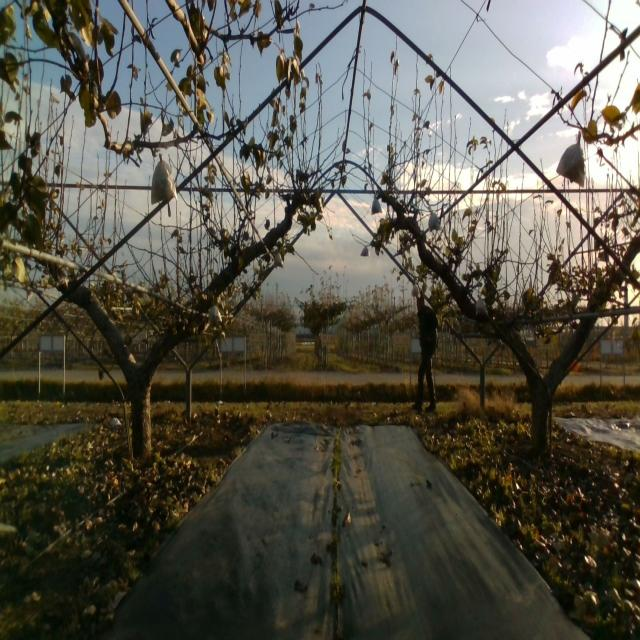pearbags: (412, 294, 439, 413), (556, 130, 585, 186), (150, 162, 178, 204), (207, 306, 223, 328), (475, 295, 490, 316), (427, 210, 441, 232), (371, 195, 382, 215)
